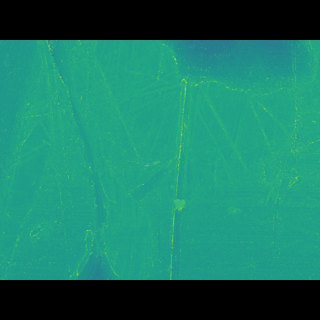Loch: (37, 69, 309, 197), (0, 132, 160, 250)
